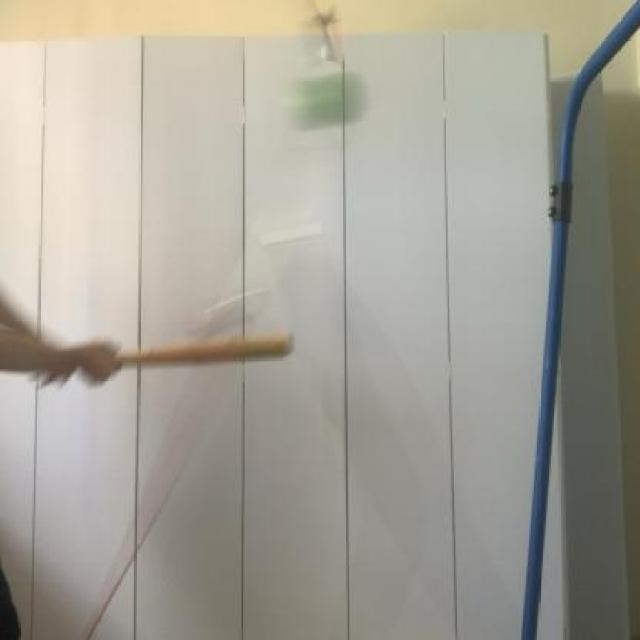baseball: (282, 59, 376, 133)
